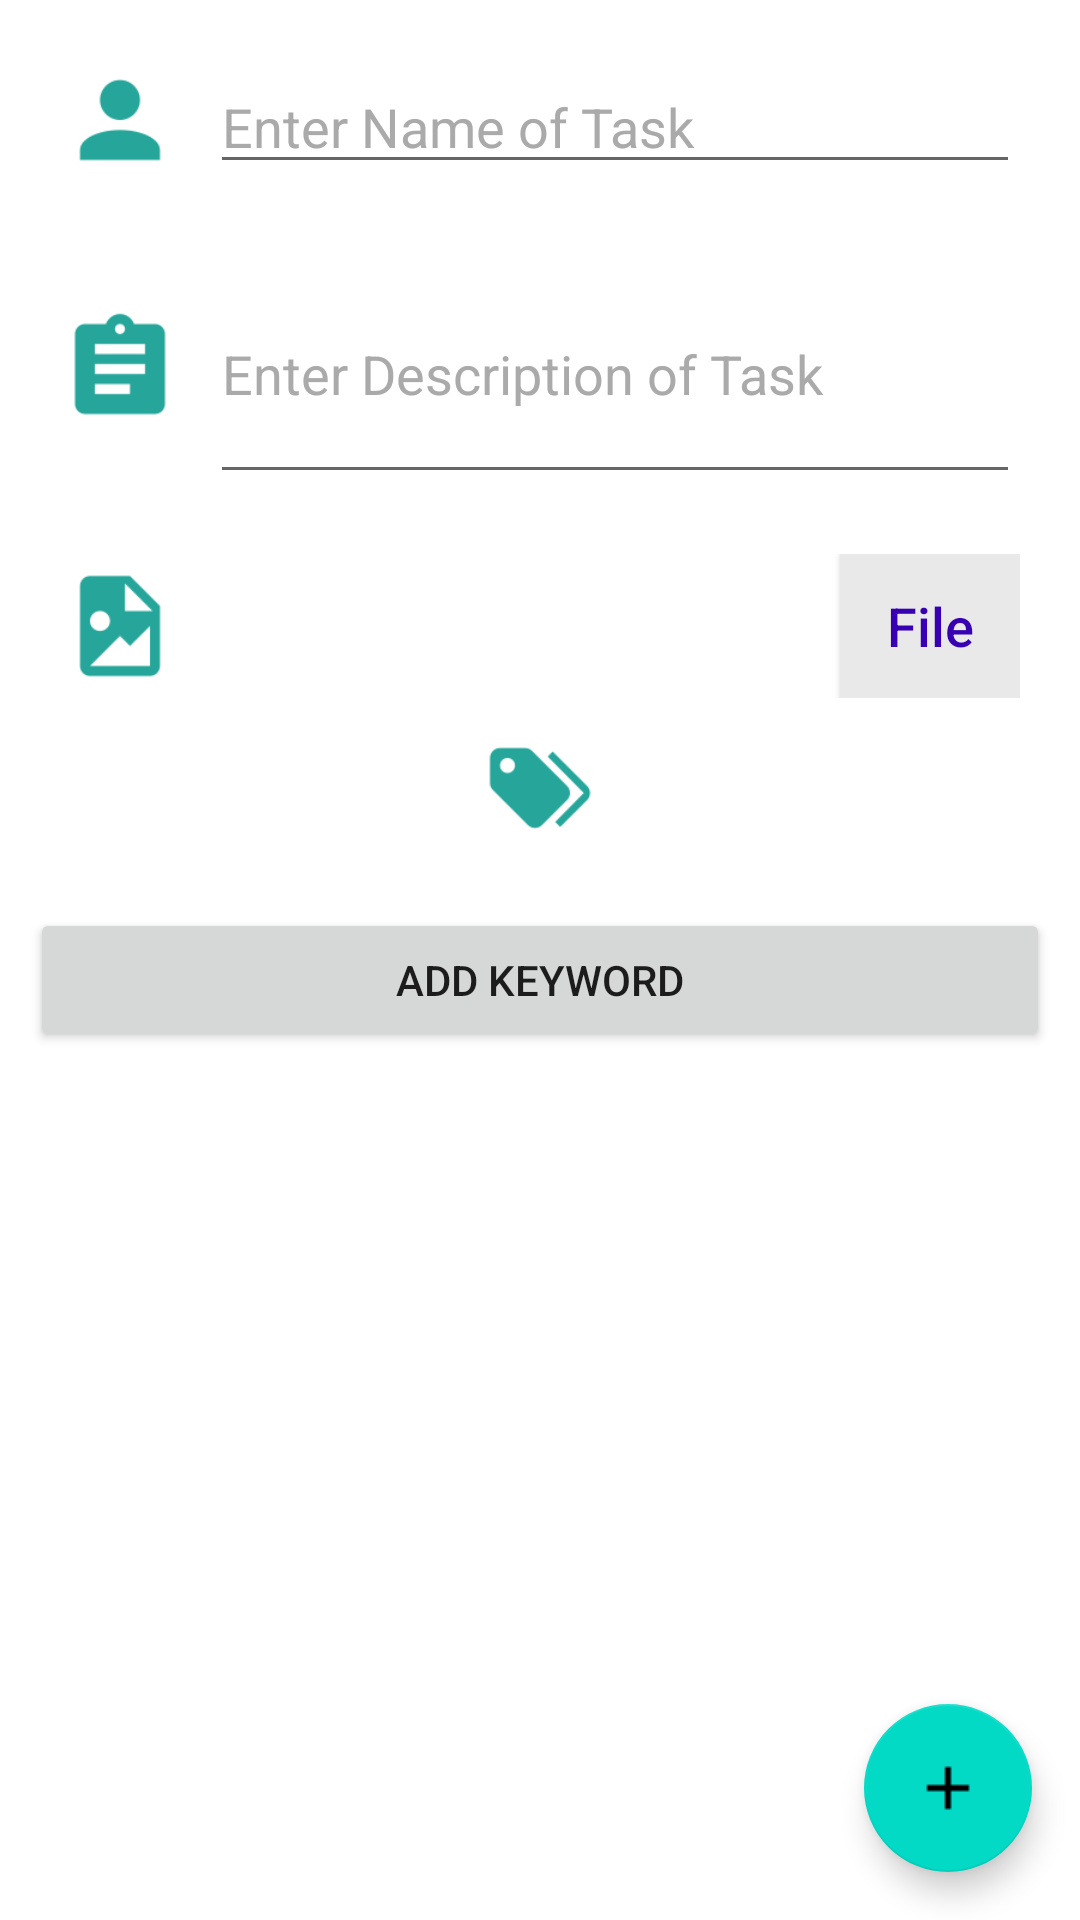

Where to tap for icons on this 1080 × 1920 app screen, as point (x, y):
file: point (120, 626)
plus: point (948, 1788)
tag: point (540, 788)
